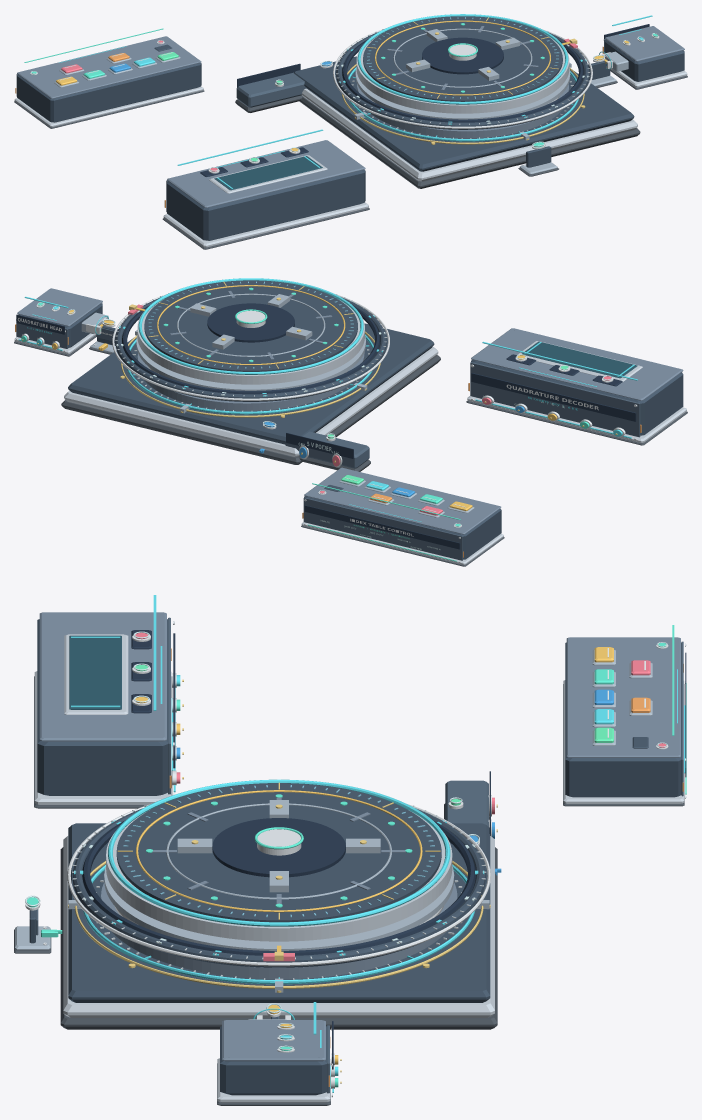
File: Level44_Fitted_Assembly.fbx
3 renders of one model, top to bottom at view 1: azimuth 30°, elevation 25°; view 2: azimuth 150°, elevation 25°; view 3: azimuth 270°, elevation 25°, orthographic. The views are drawn at different scales.
Parts seen in each view (by area): view 1: L44_Platter_Static__graphite, L44_Table_Static__graphite, L44_Decoder_Static__graphite, L44_Control_Static__graphite, L44_Control_Static__mid_steel, L44_Decoder_Static__mid_steel, L44_Table_Static__titanium, L44_Table_Static__rubber, L44_Platter_Static__titanium, L44_Disc_Static__graphite, L44_Decoder_Static__titanium, L44_Platter_Static__void (+22 smaller); view 2: L44_Platter_Static__graphite, L44_Table_Static__graphite, L44_Control_Static__mid_steel, L44_Decoder_Static__mid_steel, L44_Decoder_Static__deep_steel, L44_Table_Static__titanium, L44_Table_Static__rubber, L44_Control_Static__deep_steel, L44_Platter_Static__titanium, L44_Disc_Static__graphite, L44_Platter_Static__void, L44_Decoder_Static__graphite (+25 smaller); view 3: L44_Platter_Static__graphite, L44_Table_Static__graphite, L44_Control_Static__mid_steel, L44_Decoder_Static__mid_steel, L44_Table_Static__titanium, L44_Decoder_Static__graphite, L44_Platter_Static__titanium, L44_Table_Static__rubber, L44_Disc_Static__graphite, L44_Platter_Static__void, L44_Control_Static__graphite, L44_Disc_Static__steel (+19 smaller).
Boxes of the visible parts, x1=… form: L44_Platter_Static__graphite: x1=363, y1=16, x2=562, y2=101; L44_Table_Static__graphite: x1=294, y1=56, x2=634, y2=171; L44_Decoder_Static__graphite: x1=167, y1=169, x2=365, y2=240; L44_Control_Static__graphite: x1=17, y1=44, x2=201, y2=122; L44_Control_Static__mid_steel: x1=17, y1=36, x2=201, y2=98; L44_Decoder_Static__mid_steel: x1=167, y1=140, x2=365, y2=207; L44_Table_Static__titanium: x1=301, y1=88, x2=637, y2=181; L44_Table_Static__rubber: x1=235, y1=95, x2=640, y2=188; L44_Platter_Static__titanium: x1=356, y1=32, x2=569, y2=113; L44_Disc_Static__graphite: x1=336, y1=32, x2=589, y2=129; L44_Decoder_Static__titanium: x1=163, y1=155, x2=368, y2=247; L44_Platter_Static__void: x1=422, y1=37, x2=503, y2=74; L44_Platter_Static__graphite: x1=144, y1=280, x2=357, y2=371; L44_Table_Static__graphite: x1=68, y1=323, x2=434, y2=445; L44_Control_Static__mid_steel: x1=304, y1=467, x2=501, y2=538; L44_Decoder_Static__mid_steel: x1=471, y1=328, x2=683, y2=440; L44_Decoder_Static__deep_steel: x1=470, y1=362, x2=640, y2=437; L44_Table_Static__titanium: x1=64, y1=346, x2=438, y2=456; L44_Table_Static__rubber: x1=61, y1=355, x2=440, y2=471; L44_Control_Static__deep_steel: x1=303, y1=497, x2=462, y2=560; L44_Platter_Static__titanium: x1=137, y1=299, x2=364, y2=384; L44_Disc_Static__graphite: x1=115, y1=297, x2=386, y2=401; L44_Platter_Static__void: x1=207, y1=303, x2=294, y2=342; L44_Decoder_Static__graphite: x1=471, y1=360, x2=683, y2=435; L44_Platter_Static__graphite: x1=116, y1=783, x2=441, y2=922; L44_Table_Static__graphite: x1=68, y1=823, x2=490, y2=1002; L44_Control_Static__mid_steel: x1=566, y1=637, x2=686, y2=797; L44_Decoder_Static__mid_steel: x1=39, y1=612, x2=174, y2=744; L44_Table_Static__titanium: x1=63, y1=836, x2=494, y2=1017; L44_Decoder_Static__graphite: x1=37, y1=619, x2=167, y2=795; L44_Platter_Static__titanium: x1=106, y1=810, x2=452, y2=941; L44_Table_Static__rubber: x1=60, y1=803, x2=497, y2=1029; L44_Disc_Static__graphite: x1=72, y1=808, x2=485, y2=967; L44_Platter_Static__void: x1=212, y1=818, x2=345, y2=877; L44_Control_Static__graphite: x1=565, y1=642, x2=681, y2=797; L44_Disc_Static__steel: x1=104, y1=866, x2=453, y2=950.
Bounding box in the file's own units: 179 × 20.5 × 119.
